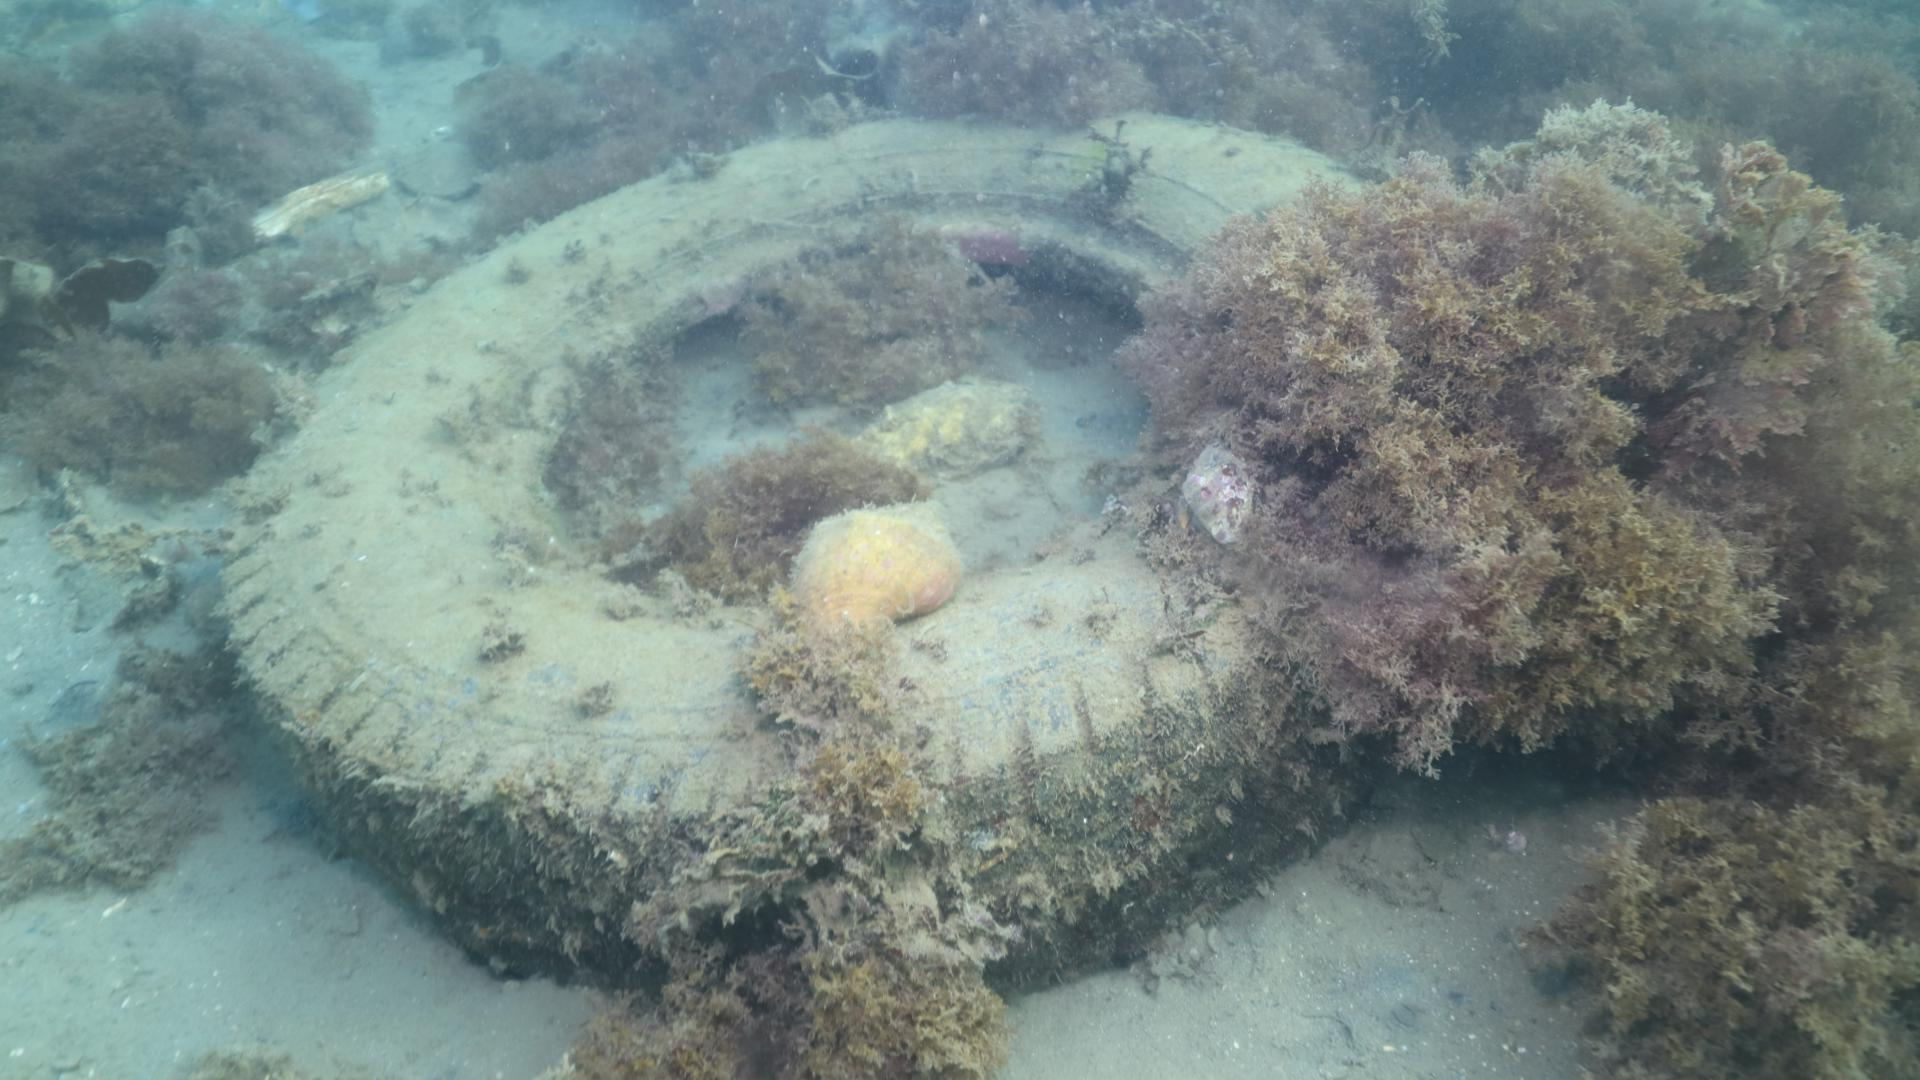tire: (218, 107, 1379, 990)
